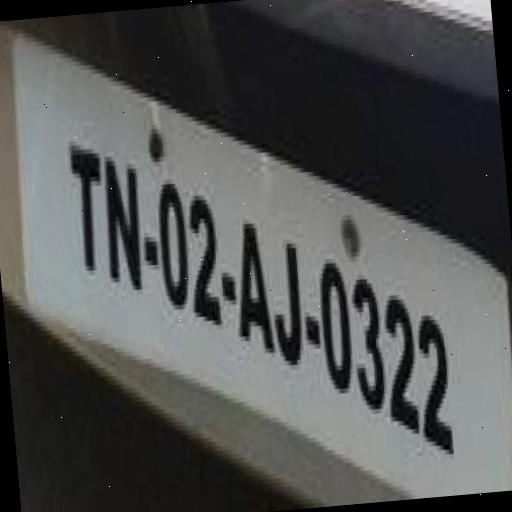number plate: (0, 5, 491, 490)
